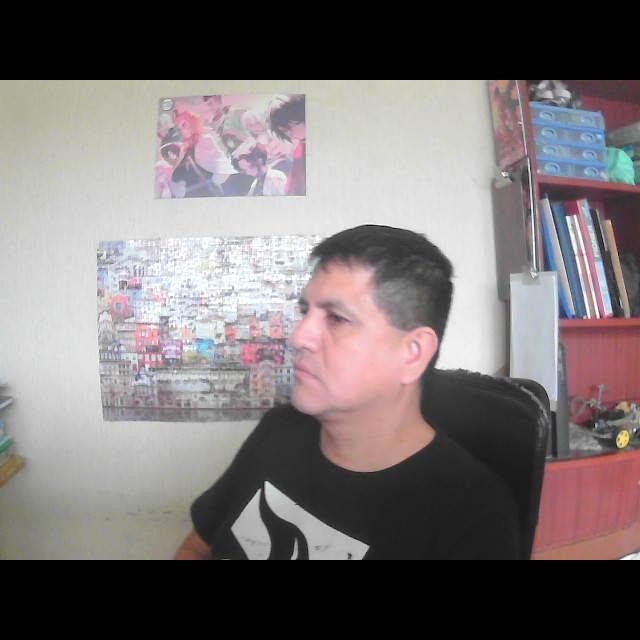cesar: (264, 212, 466, 480)
